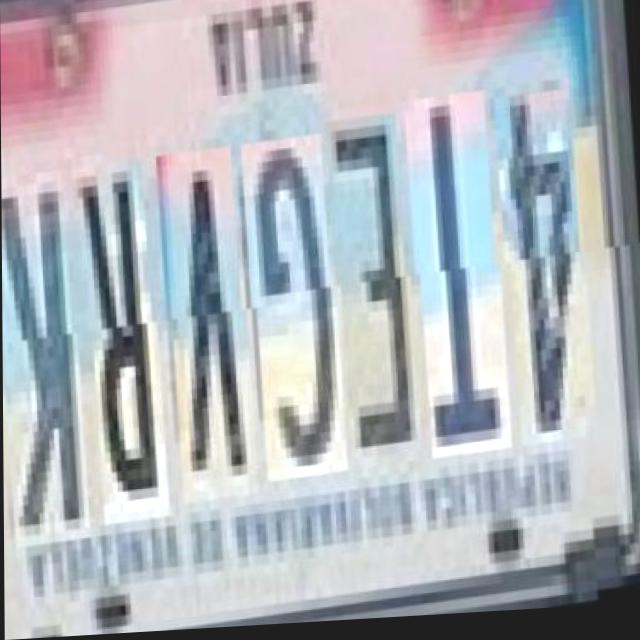4: (500, 93, 594, 452)
e: (331, 113, 420, 471)
g: (247, 131, 344, 480)
k: (1, 161, 87, 538)
r: (83, 152, 166, 518)
t: (410, 92, 509, 461)
v: (162, 141, 254, 499)
